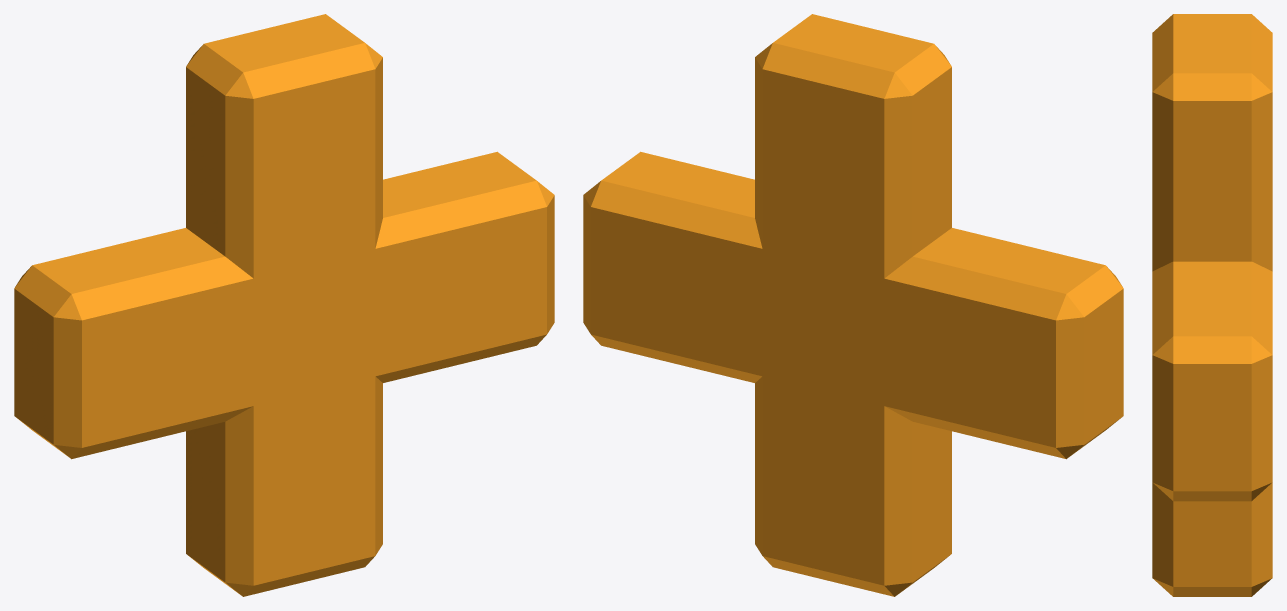
File: SM_Icon_Health_01.fbx
3 renders of one model, left to right at view 1: azimuth 30°, elevation 25°; view 2: azimuth 150°, elevation 25°; view 3: azimuth 270°, elevation 25°, orthographic.
Visible parts, largest first — view 1: SM_Icon_Health_01; view 2: SM_Icon_Health_01; view 3: SM_Icon_Health_01.
Part boxes in pixels (x1,y1,x2,y2): SM_Icon_Health_01: [14, 14, 554, 596]; SM_Icon_Health_01: [583, 14, 1123, 596]; SM_Icon_Health_01: [1152, 14, 1272, 596].
Size of the model in its own units: 52.49 by 52.49 by 10.91.
